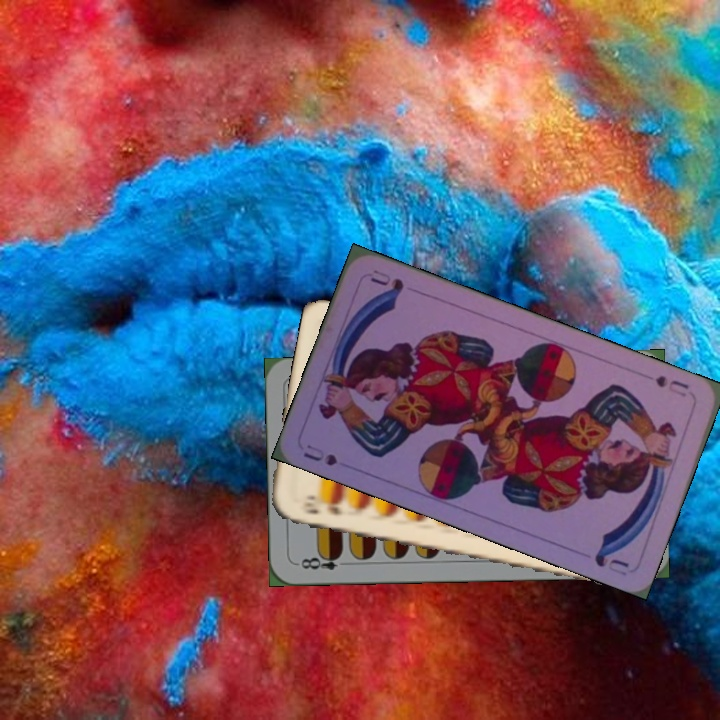E10: (295, 494, 346, 518)
E8: (294, 549, 353, 573)
SU: (299, 440, 340, 469), (651, 371, 691, 400)
